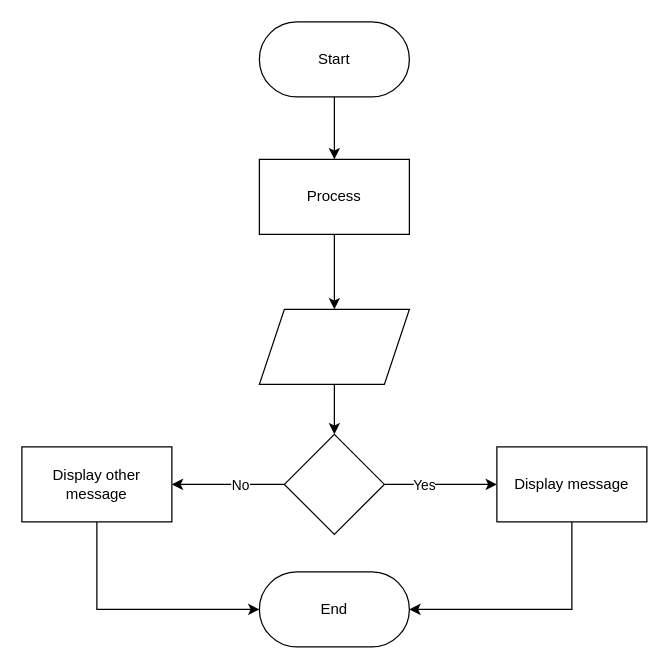
Image size: 669x669. Some labels were removed from this diagram. Here are the shapes that lost their labels. From the top down, the centre of each, then its label:
At (333,346): "Input or output".
At (333,483): "Decision".
